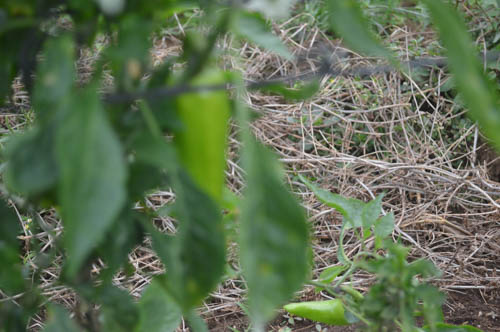ChiliPepper: (177, 80, 231, 192)
